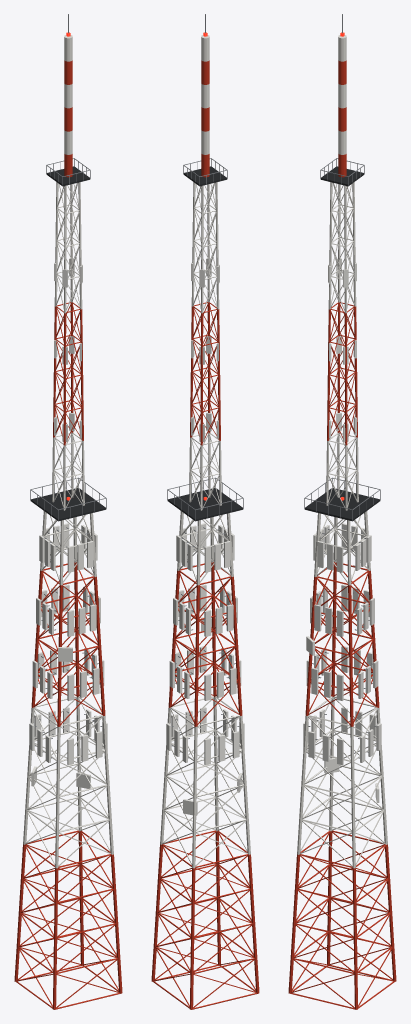
The model's file is sender-gaisberg.glb.
3 renders of one model, left to right at view 1: azimuth 30°, elevation 25°; view 2: azimuth 210°, elevation 25°; view 3: azimuth 330°, elevation 25°, orthographic.
Visible parts, largest first — view 1: SenderGaisberg; view 2: SenderGaisberg; view 3: SenderGaisberg.
Boxes of the visible parts, bbox=[...] form: SenderGaisberg: bbox=[14, 14, 122, 1009]; SenderGaisberg: bbox=[151, 14, 259, 1009]; SenderGaisberg: bbox=[288, 14, 396, 1009].
Size of the model in its own units: 7.51 by 101 by 7.51.
